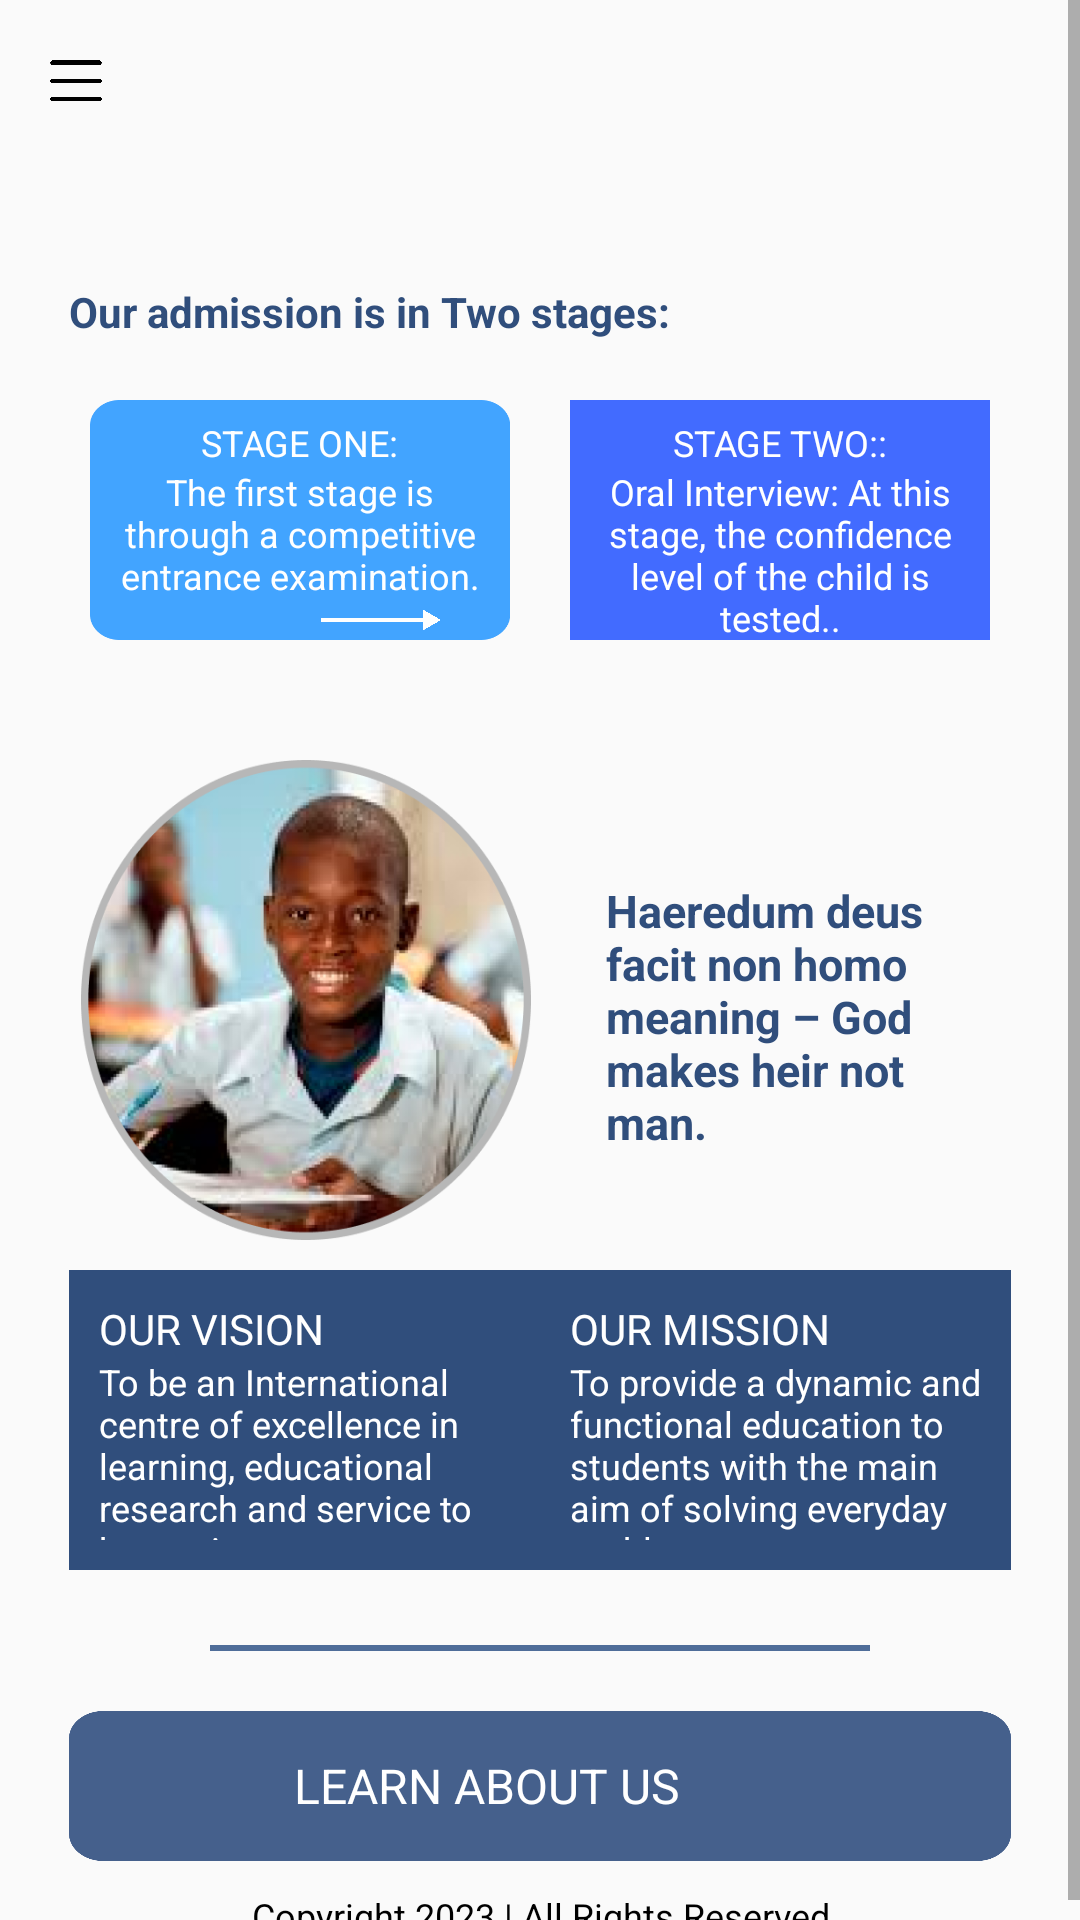

Where to tap for icons on this 1080 x 1920 app screen, as [x,y]:
arrow right: [380,620]
